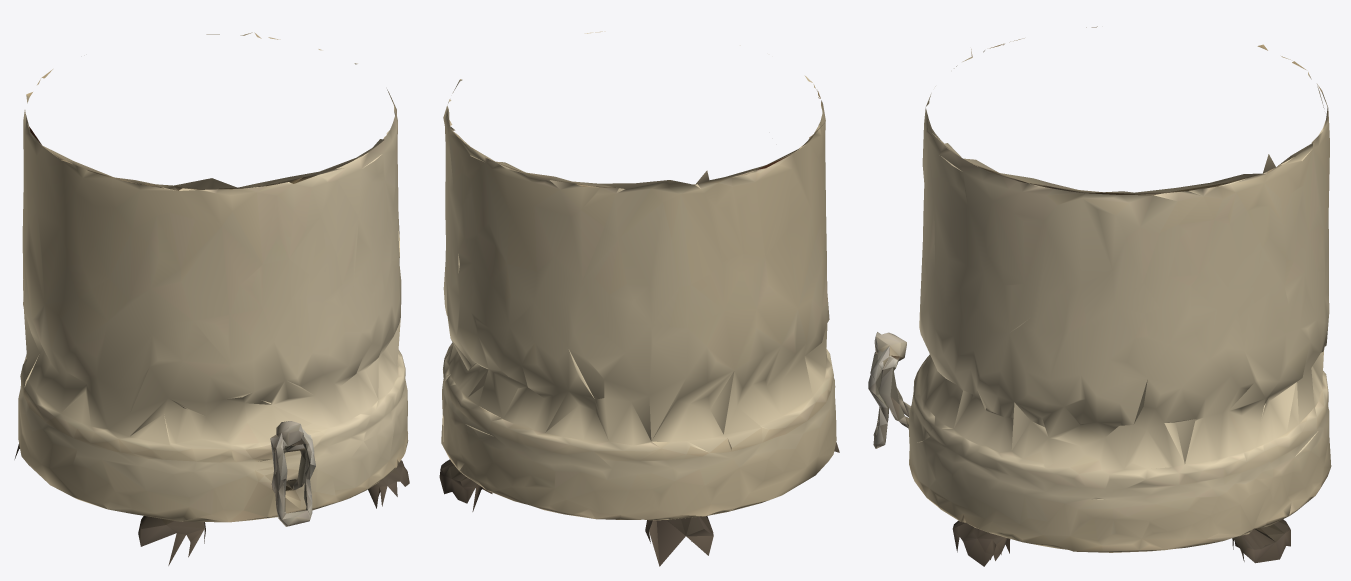
The model's file is kiln_body.glb.
The picture shows the model from 3 angles, left to right: view 1: azimuth 30°, elevation 25°; view 2: azimuth 150°, elevation 25°; view 3: azimuth 270°, elevation 25°; orthographic projection. The views are drawn at different scales.
Parts seen in each view (by area): view 1: geometry_0; view 2: geometry_0; view 3: geometry_0.
Part boxes in pixels (x1,y1,x2,y2): geometry_0: (14,32,409,565); geometry_0: (439,31,839,566); geometry_0: (868,26,1331,566).
Size of the model in its own units: 0.3356 by 0.37 by 0.3698.
1 material, 1 textured.
